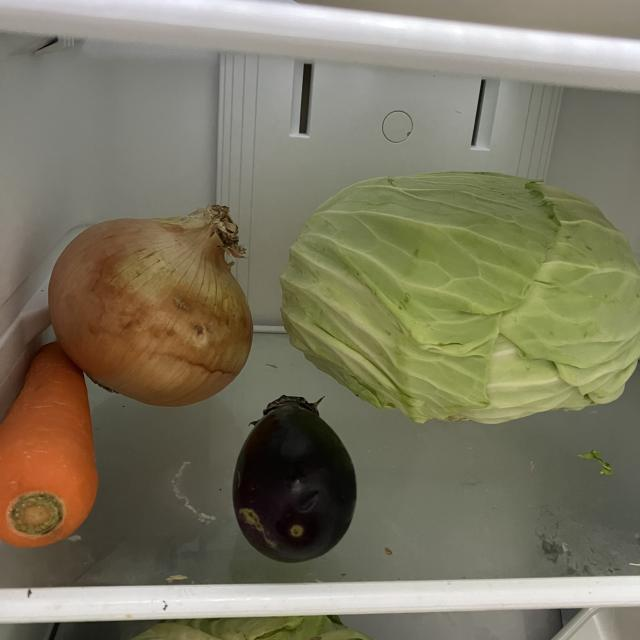cabbage: (276, 168, 640, 432)
onion: (45, 199, 253, 413)
